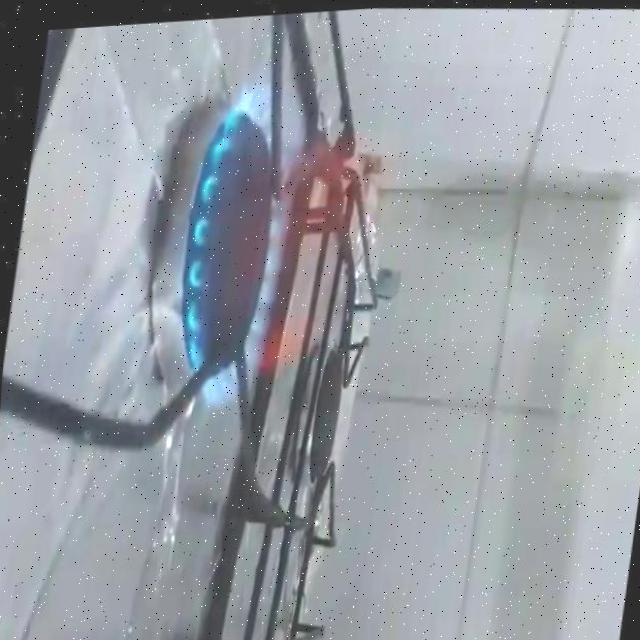fire: (163, 70, 409, 446)
